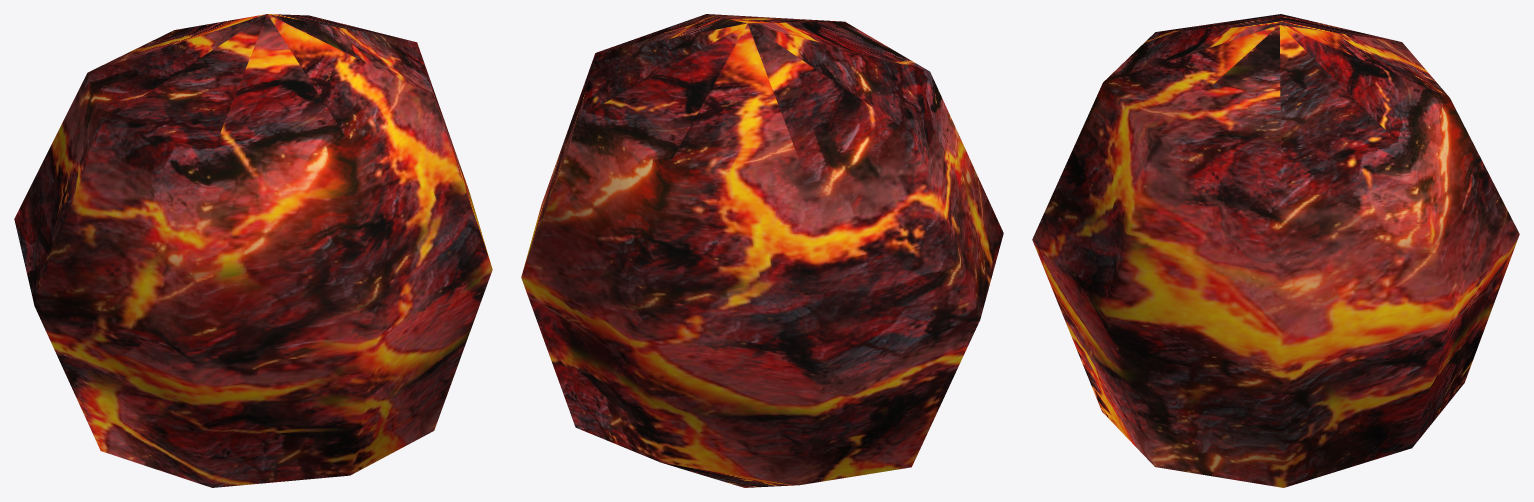
Rendered from shitou.FBX.
3 views of the same model, side by side, from view 1: azimuth 30°, elevation 25°; view 2: azimuth 150°, elevation 25°; view 3: azimuth 270°, elevation 25° (orthographic).
Visible parts, largest first — view 1: shitou; view 2: shitou; view 3: shitou.
Part boxes in pixels (x1,y1,x2,y2): shitou: (14,14,492,487); shitou: (521,14,1003,487); shitou: (1032,14,1519,487).
Size of the model in its own units: 51.5 by 51.87 by 50.53.
